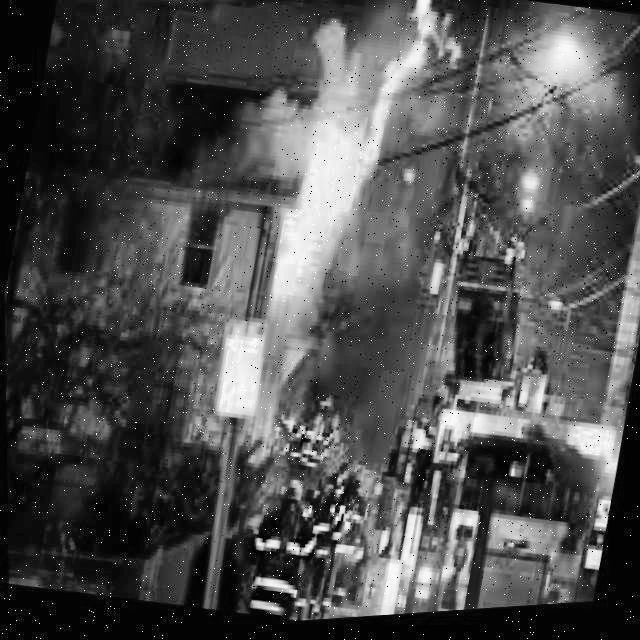Fire: (201, 10, 446, 408)
Smoke: (166, 0, 392, 224)
